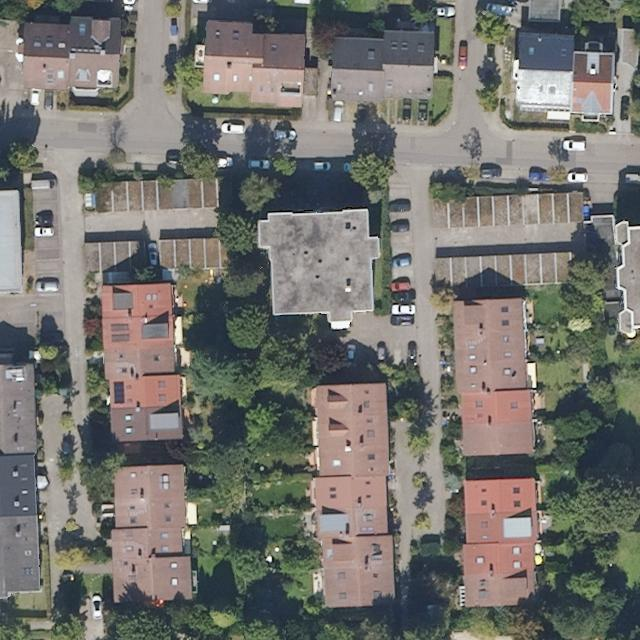PV: (112, 380, 126, 405)
